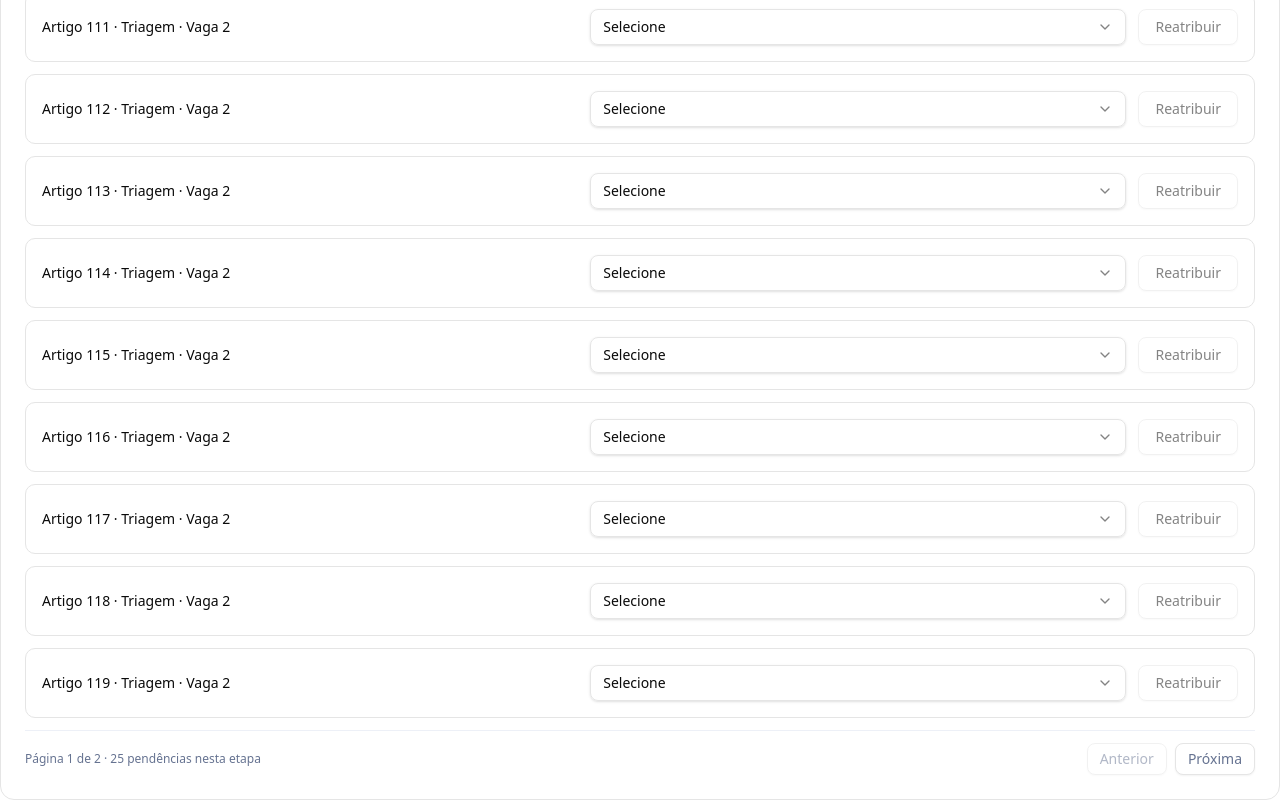
Test: controlled distribution › shows only reassignment vacancies from the selected phase and limits long lists
The width and height of the screenshot is (1280, 800).
(page scrolled)
Step 1. Click the button with aria-label "Próximas pendências" → (1215,759), box [1175, 743, 1255, 775]
(page scrolled)
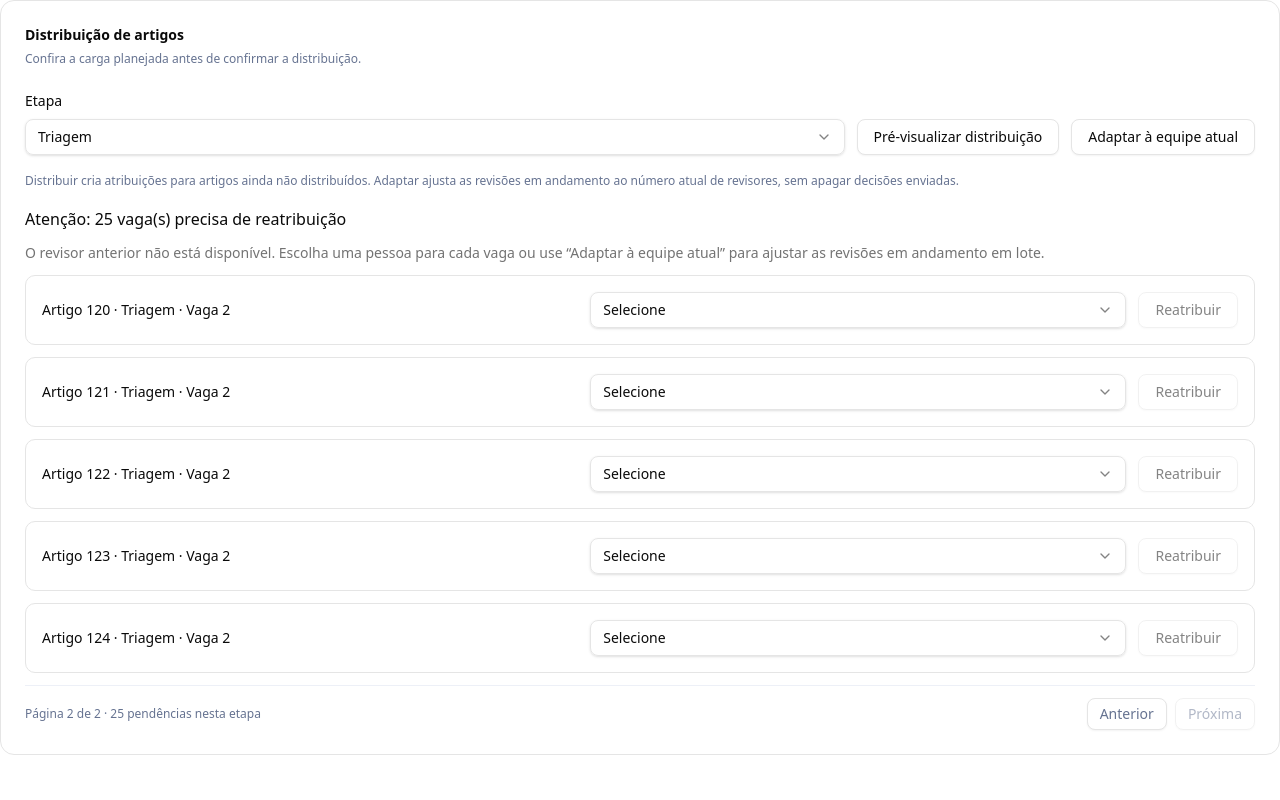
Now the number of buttons named "Reatribuir artigo" is 5, box [1138, 292, 1238, 328]; [1138, 374, 1238, 410]; [1138, 456, 1238, 492]; [1138, 538, 1238, 574]; [1138, 620, 1238, 656]
